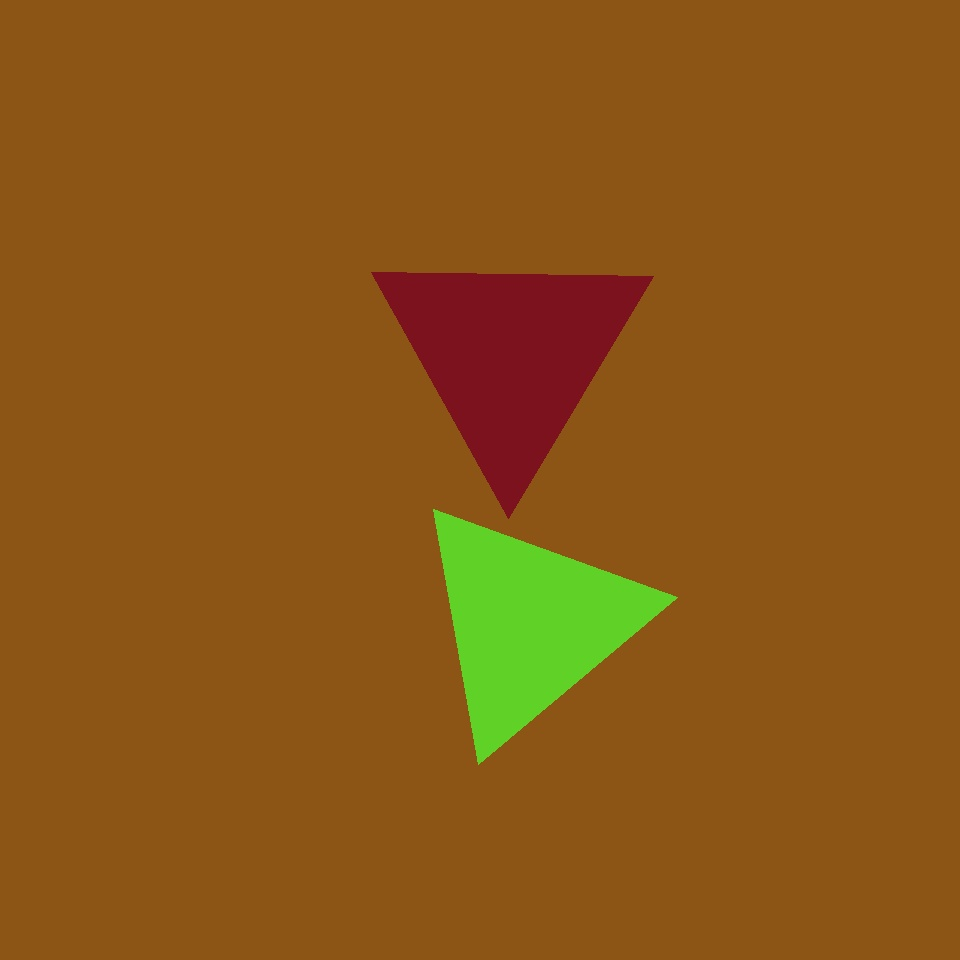circle: (370, 233, 652, 479), (408, 496, 652, 752)
square: (76, 564, 393, 880)
triangle: (30, 229, 231, 431)
